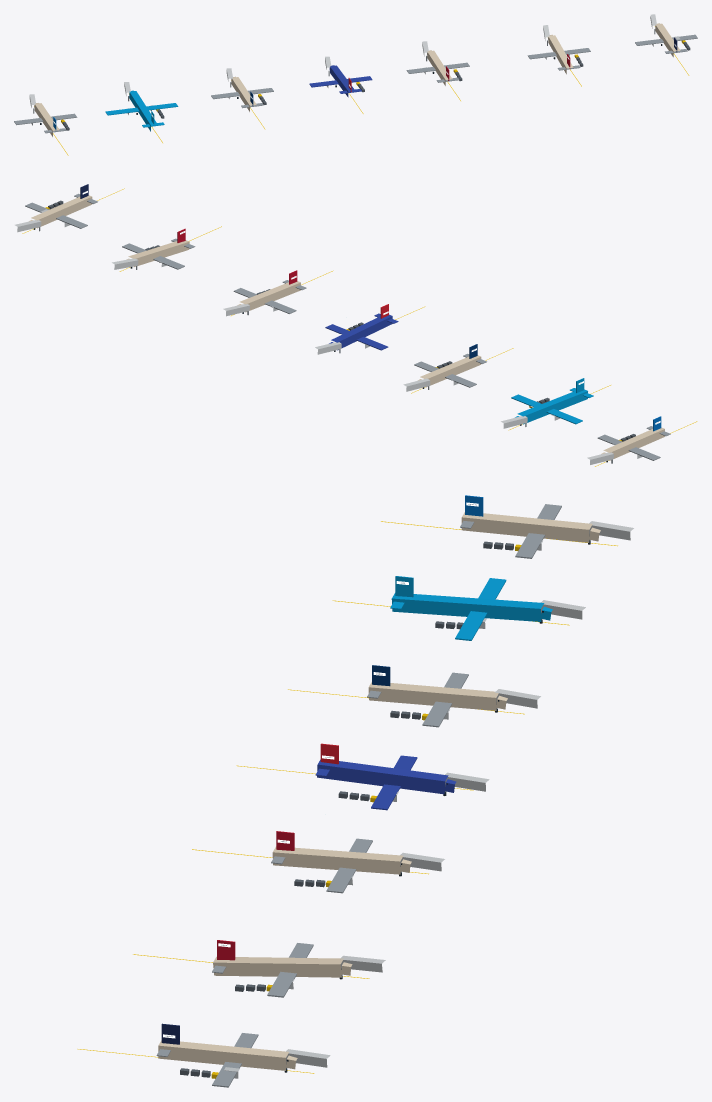
The model's file is airport_fx.glb.
The picture shows the model from 3 angles, top to bottom: view 1: azimuth 30°, elevation 25°; view 2: azimuth 150°, elevation 25°; view 3: azimuth 270°, elevation 25°; orthographic projection. The views are drawn at different scales.
Parts seen in each view (by area): view 1: airport_fx_lod0; view 2: airport_fx_lod0; view 3: airport_fx_lod0.
Part boxes in pixels (x1,y1,x2,y2): airport_fx_lod0: (14, 14, 697, 155); airport_fx_lod0: (15, 184, 697, 466); airport_fx_lod0: (77, 495, 633, 1087).
Size of what is drawn, in the model's own units: 374 by 12.47 by 150.
17 materials, 1 textured.
